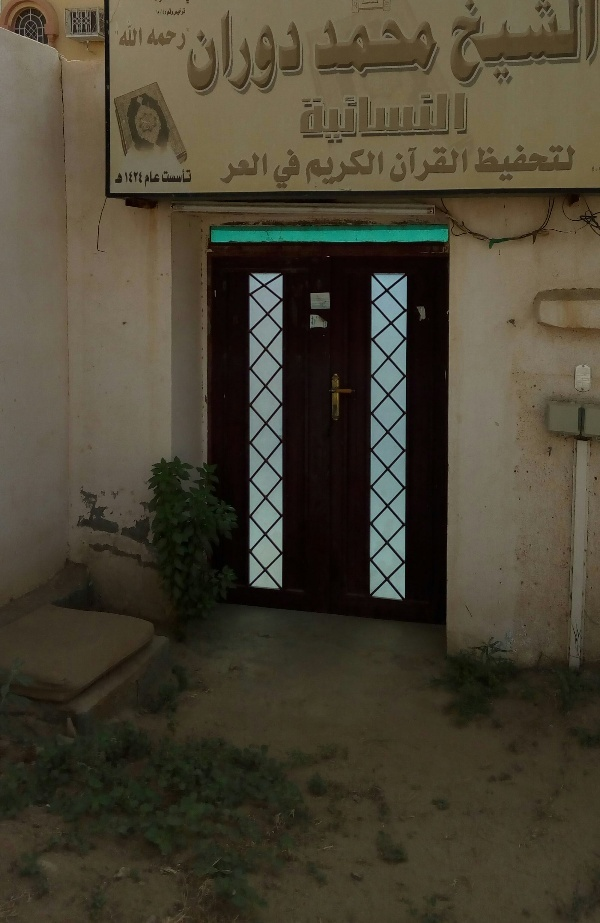text: (209, 7, 224, 96), (225, 7, 240, 96), (241, 7, 256, 96), (257, 7, 272, 96), (273, 7, 288, 96), (289, 7, 304, 96), (465, 1, 480, 90), (481, 1, 496, 90), (497, 1, 512, 90), (513, 1, 528, 90), (529, 1, 544, 90), (545, 1, 560, 90), (561, 1, 576, 90), (577, 1, 592, 90), (321, 16, 336, 77), (337, 16, 352, 77), (353, 16, 368, 77), (369, 16, 384, 77), (385, 16, 400, 77), (401, 16, 416, 77), (417, 16, 432, 77), (198, 7, 208, 96), (305, 90, 320, 144), (321, 90, 336, 144), (337, 90, 352, 144), (353, 90, 368, 144), (369, 90, 384, 144), (385, 90, 400, 144), (401, 90, 416, 144), (417, 90, 432, 144), (433, 90, 448, 144), (449, 90, 464, 144), (457, 1, 464, 90), (401, 146, 416, 186), (417, 146, 432, 186), (433, 146, 448, 186), (449, 146, 464, 186), (481, 144, 496, 184), (497, 144, 512, 184), (513, 144, 528, 184), (529, 144, 544, 184), (545, 144, 560, 184), (561, 144, 576, 184), (321, 147, 336, 186), (337, 147, 352, 186), (353, 147, 368, 186), (369, 147, 384, 186), (241, 150, 256, 186), (593, 1, 599, 90), (307, 147, 320, 186), (276, 147, 288, 189), (289, 147, 301, 189), (227, 150, 240, 186), (257, 150, 269, 186), (390, 146, 400, 186), (433, 16, 439, 77), (161, 27, 176, 51), (115, 21, 128, 47), (129, 21, 142, 47), (177, 27, 191, 51), (315, 16, 320, 77), (465, 90, 470, 144), (474, 144, 480, 184), (177, 168, 192, 183), (147, 171, 160, 188), (151, 27, 160, 51), (300, 90, 304, 144), (162, 168, 176, 183), (465, 146, 470, 186), (129, 171, 144, 184), (305, 7, 307, 96), (116, 173, 128, 184), (167, 9, 176, 17), (177, 9, 186, 16), (125, 171, 128, 184), (161, 9, 166, 15), (156, 9, 160, 15), (174, 9, 176, 16)
